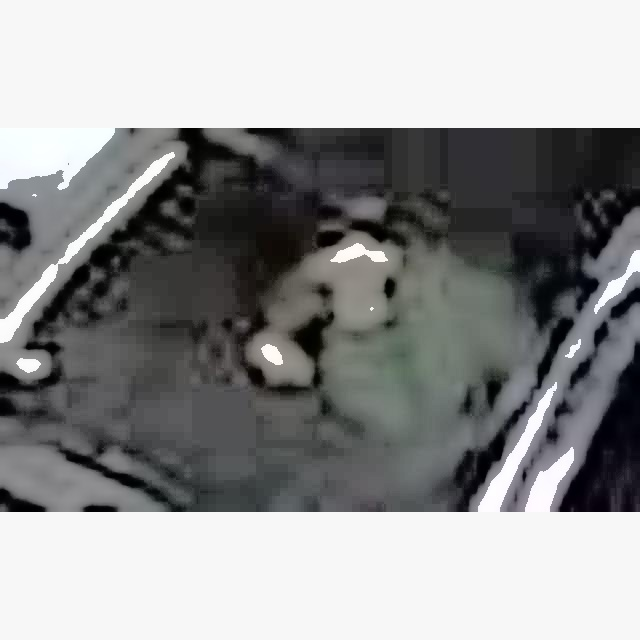pakai: (248, 200, 520, 440)
